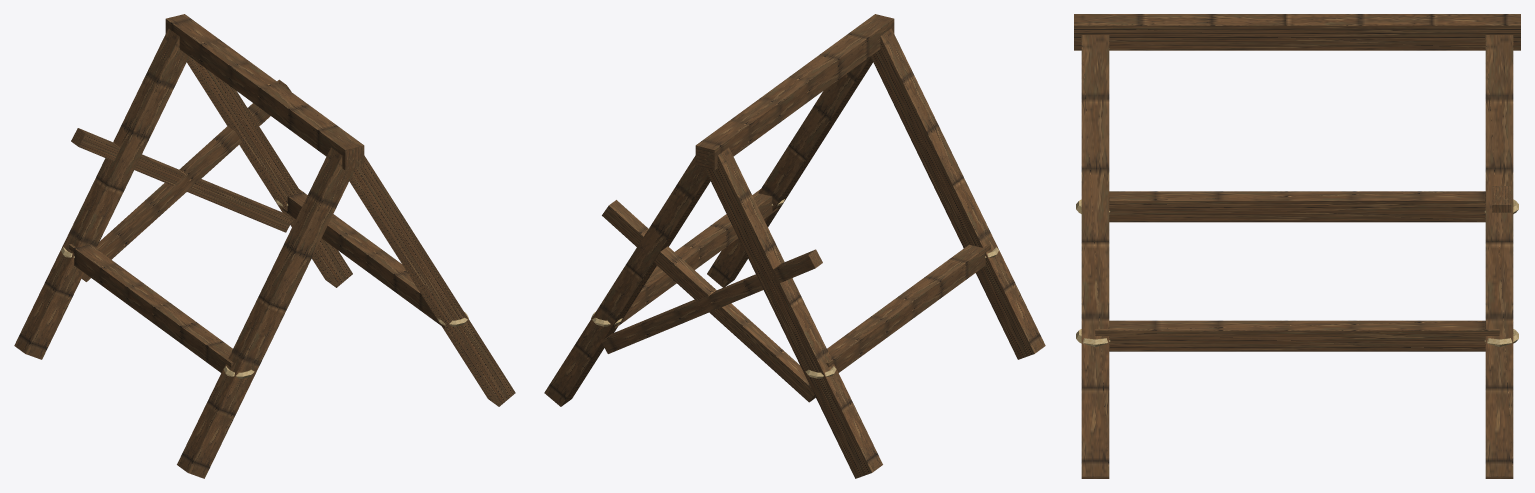
Rendered from PRP_SHELTER_FRAME_001.obj.
3 views of the same model, side by side, from view 1: azimuth 30°, elevation 25°; view 2: azimuth 150°, elevation 25°; view 3: azimuth 270°, elevation 25° (orthographic). The views are drawn at different scales.
Parts seen in each view (by area): view 1: AFrameLeg, SideBrace, CrossBrace, RidgeBeam; view 2: AFrameLeg, CrossBrace, SideBrace, RidgeBeam; view 3: AFrameLeg, SideBrace, RidgeBeam, LargeRepairNode, CrossBrace.
Boxes of the visible parts, x1,y1,x2,y2 form: AFrameLeg: [14, 28, 515, 478]; SideBrace: [69, 189, 445, 372]; CrossBrace: [71, 79, 291, 281]; RidgeBeam: [165, 14, 364, 170]; AFrameLeg: [544, 28, 1045, 478]; CrossBrace: [602, 200, 822, 402]; SideBrace: [614, 189, 990, 372]; RidgeBeam: [695, 14, 894, 170]; AFrameLeg: [1081, 35, 1513, 478]; SideBrace: [1095, 191, 1499, 351]; RidgeBeam: [1074, 14, 1520, 50]; LargeRepairNode: [1076, 199, 1518, 346]; CrossBrace: [1492, 186, 1511, 212].
Bounding box in the file's own units: 2.21 × 1.92 × 2.1.
2 materials, 2 textured.
